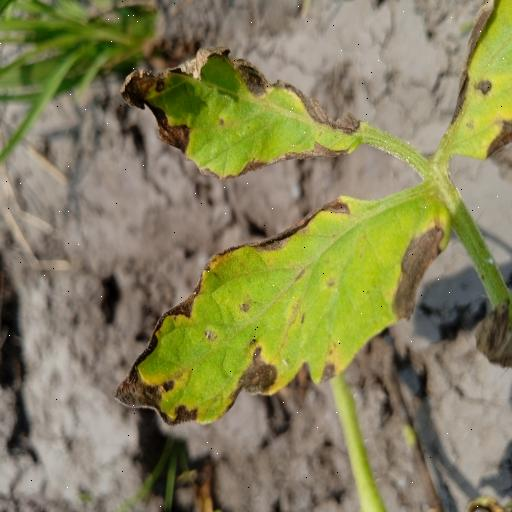Tomato_Brown_Spots: (111, 182, 453, 434), (117, 38, 365, 184), (441, 0, 512, 169)
